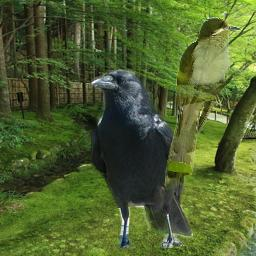Crow: (91, 69, 193, 248)
Cuckoo: (164, 17, 242, 190)
